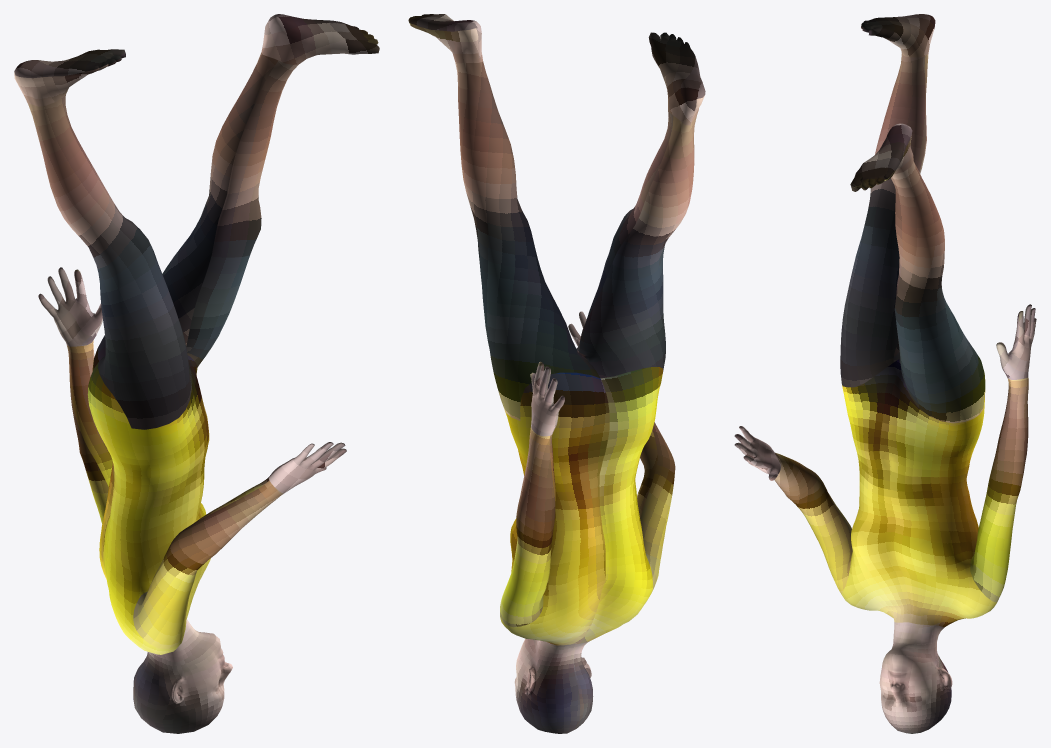
3 renders of one model, left to right at view 1: azimuth 30°, elevation 25°; view 2: azimuth 150°, elevation 25°; view 3: azimuth 270°, elevation 25°, orthographic. The views are drawn at different scales.
Parts seen in each view (by area): view 1: m_avg_Untitled; view 2: m_avg_Untitled; view 3: m_avg_Untitled.
Boxes of the visible parts, x1,y1,x2,y2 form: m_avg_Untitled: (14, 14, 379, 733); m_avg_Untitled: (408, 14, 705, 733); m_avg_Untitled: (734, 14, 1036, 733).
Bounding box in the file's own units: 0.8262 × 1.71 × 0.7071.
